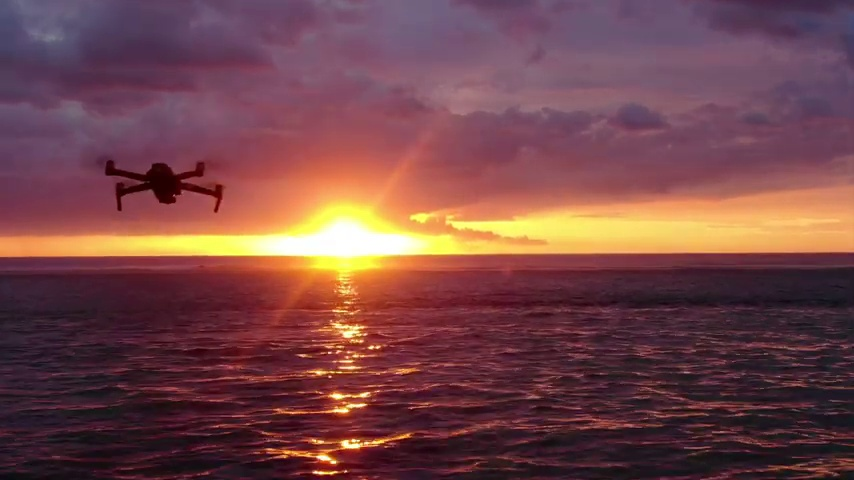drone: (102, 151, 226, 218)
